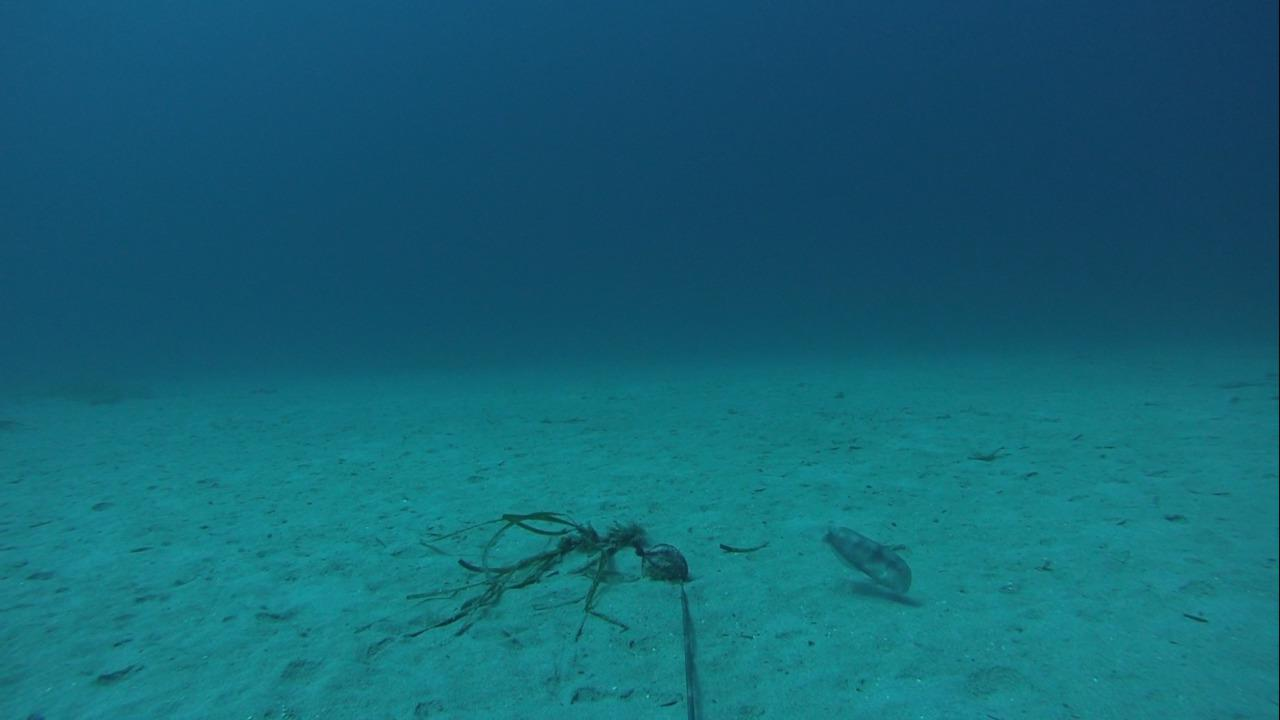raor: (812, 519, 916, 601)
